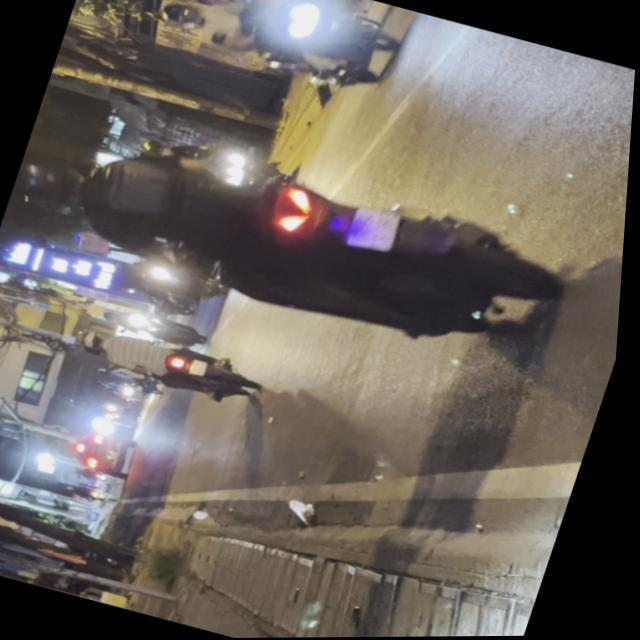helmet: (14, 154, 97, 215), (156, 0, 206, 31), (78, 326, 110, 350)
licenseplate: (0, 92, 594, 386), (143, 0, 411, 111), (66, 314, 273, 412)
nohelmet: (346, 203, 401, 254), (191, 358, 211, 376)
